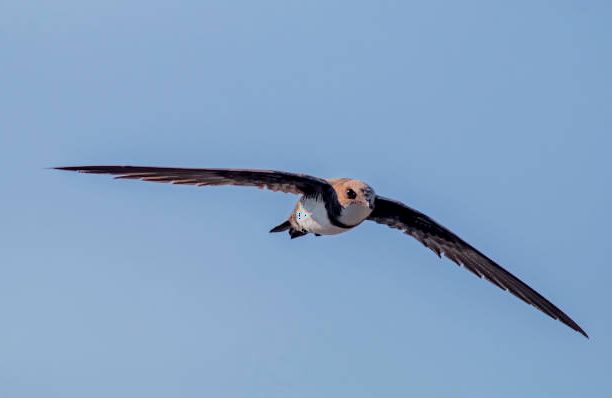Bird: (46, 162, 590, 344)
